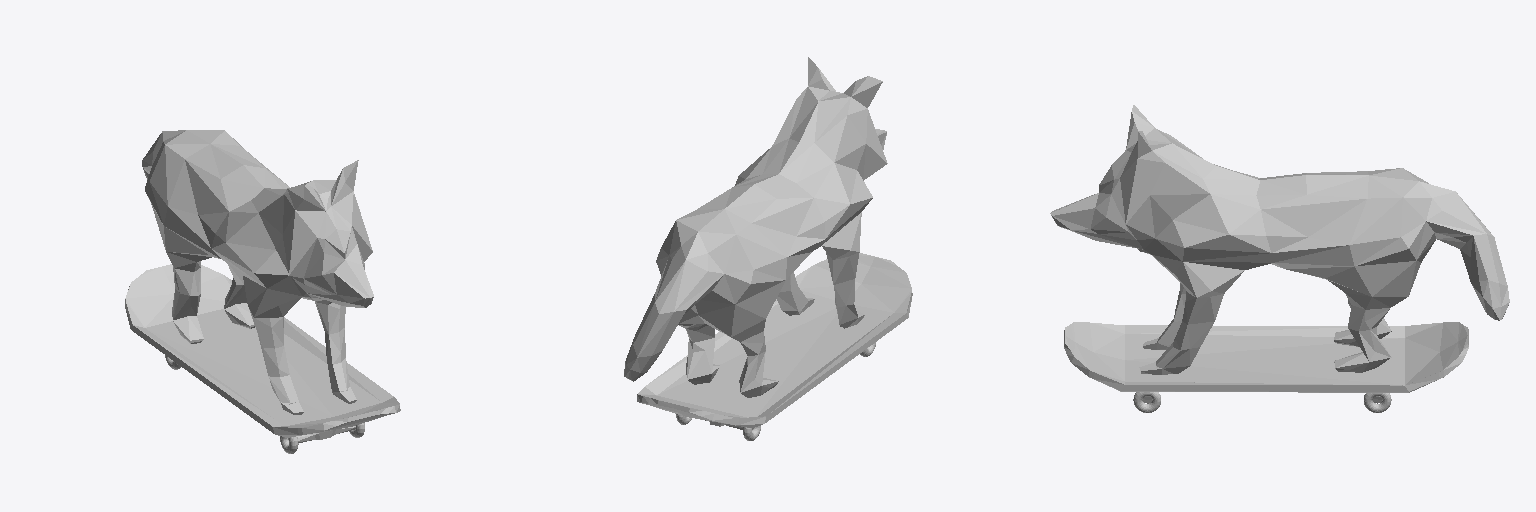
The model's file is Fuchs05.obj.
The picture shows the model from 3 angles: view 1: azimuth 30°, elevation 25°; view 2: azimuth 150°, elevation 25°; view 3: azimuth 270°, elevation 25°; orthographic projection.
Size of the model in its own units: 3.58 by 7.88 by 11.7.